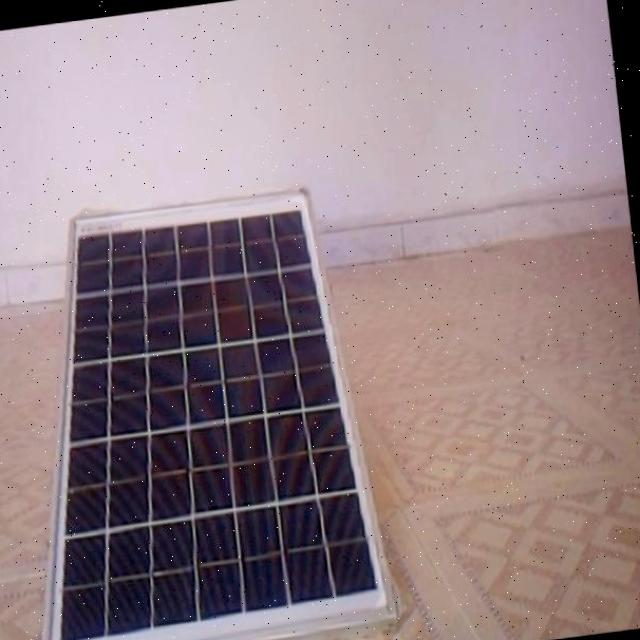Normal Solar Panel: (0, 173, 402, 640)
